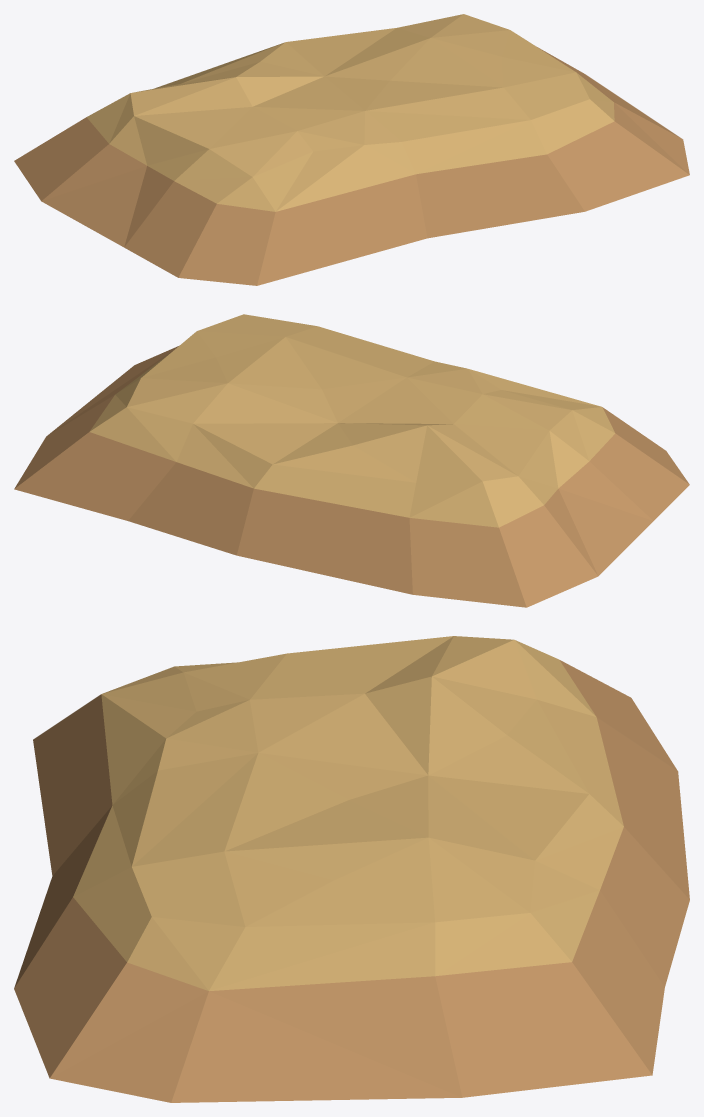
File: TB_D_Env_Mound_Med_A.FBX
3 renders of one model, top to bottom at view 1: azimuth 30°, elevation 25°; view 2: azimuth 150°, elevation 25°; view 3: azimuth 270°, elevation 25°, orthographic. The views are drawn at different scales.
Visible parts, largest first — view 1: TB_D_Env_Mound_Med_A; view 2: TB_D_Env_Mound_Med_A; view 3: TB_D_Env_Mound_Med_A.
Part boxes in pixels (x1,y1,x2,y2): TB_D_Env_Mound_Med_A: (14,14,689,285); TB_D_Env_Mound_Med_A: (14,314,689,607); TB_D_Env_Mound_Med_A: (14,636,689,1102).
Bounding box in the file's own units: 19.48 × 3.11 × 13.21.
